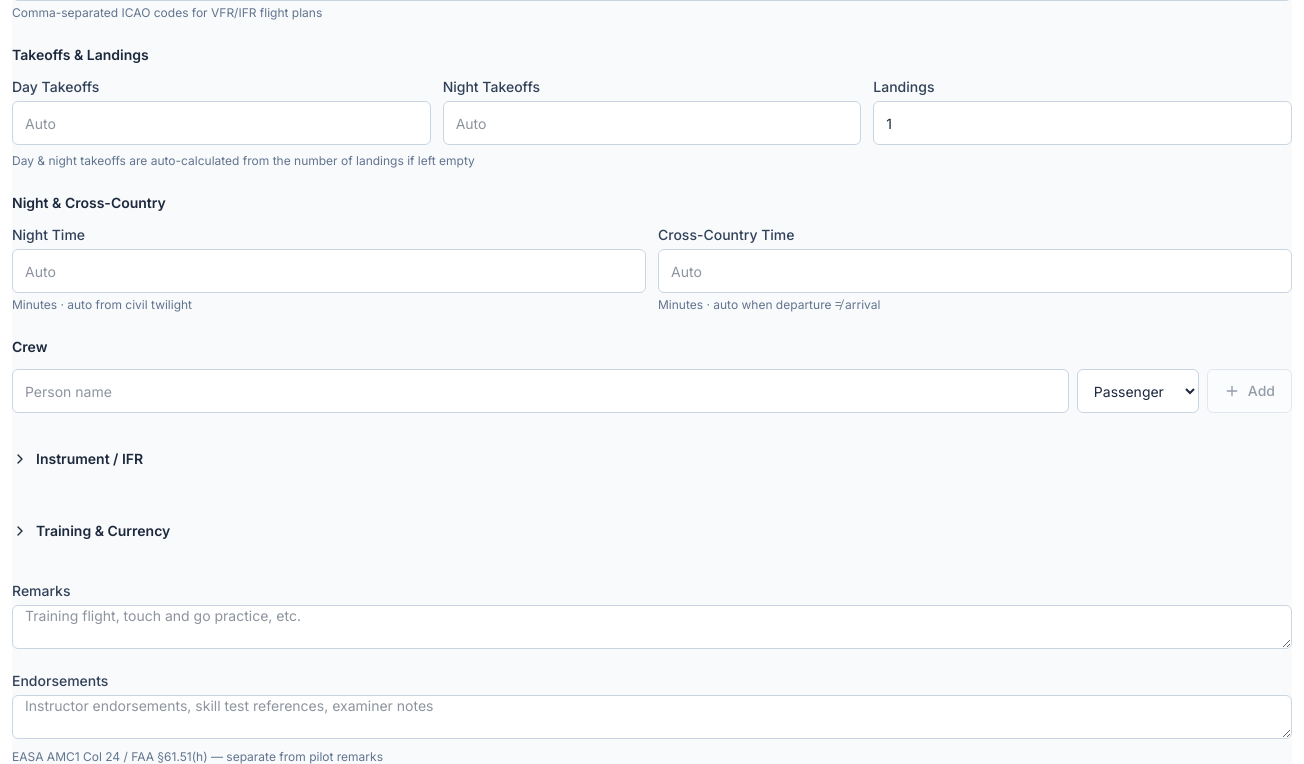
Test: FlightForm Crew Section › adds a crew member
(page scrolled)
Crew section is already expanded — no need to click to reveal it
Type "John Smith" into the dropdown with placeholder "Person name" at {"x": 540, "y": 391}, box top-left (12, 369), bottom-right (1069, 413)
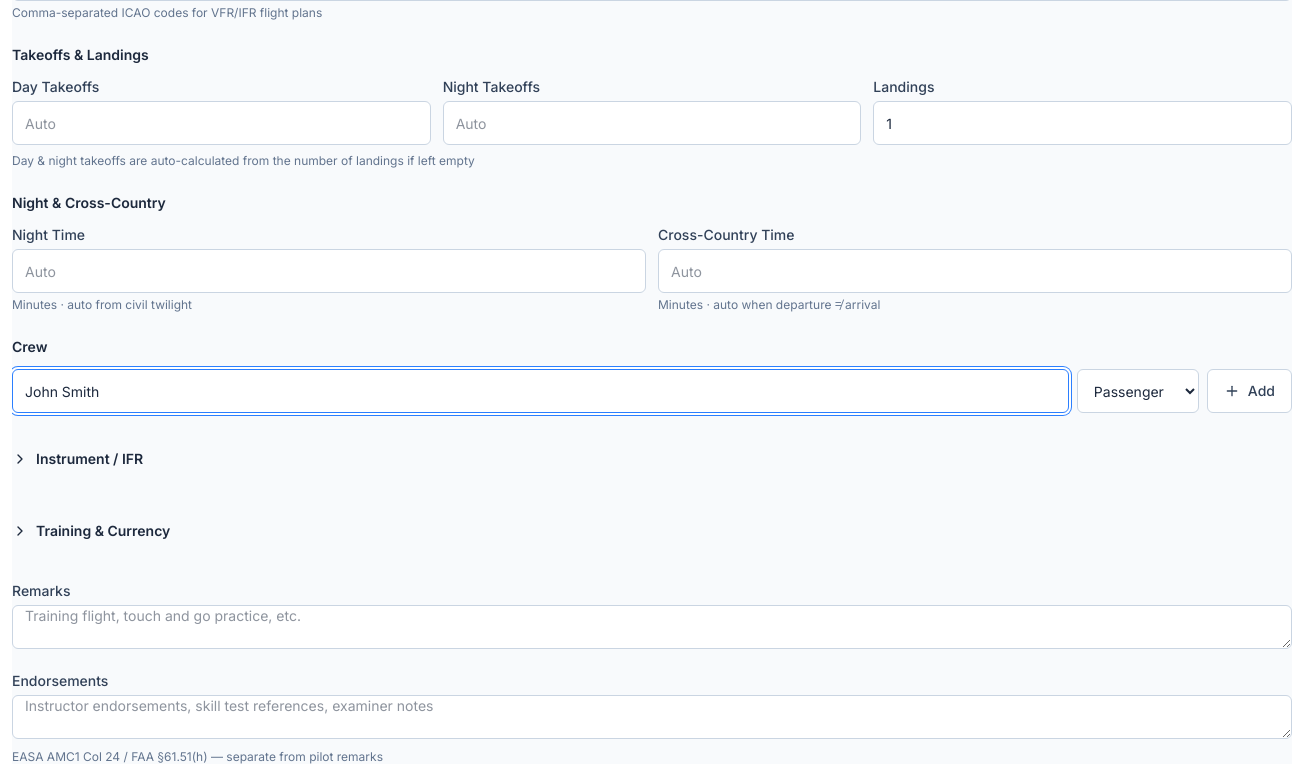
Click the button "Add" at {"x": 1249, "y": 391}, box top-left (1207, 369), bottom-right (1292, 413)
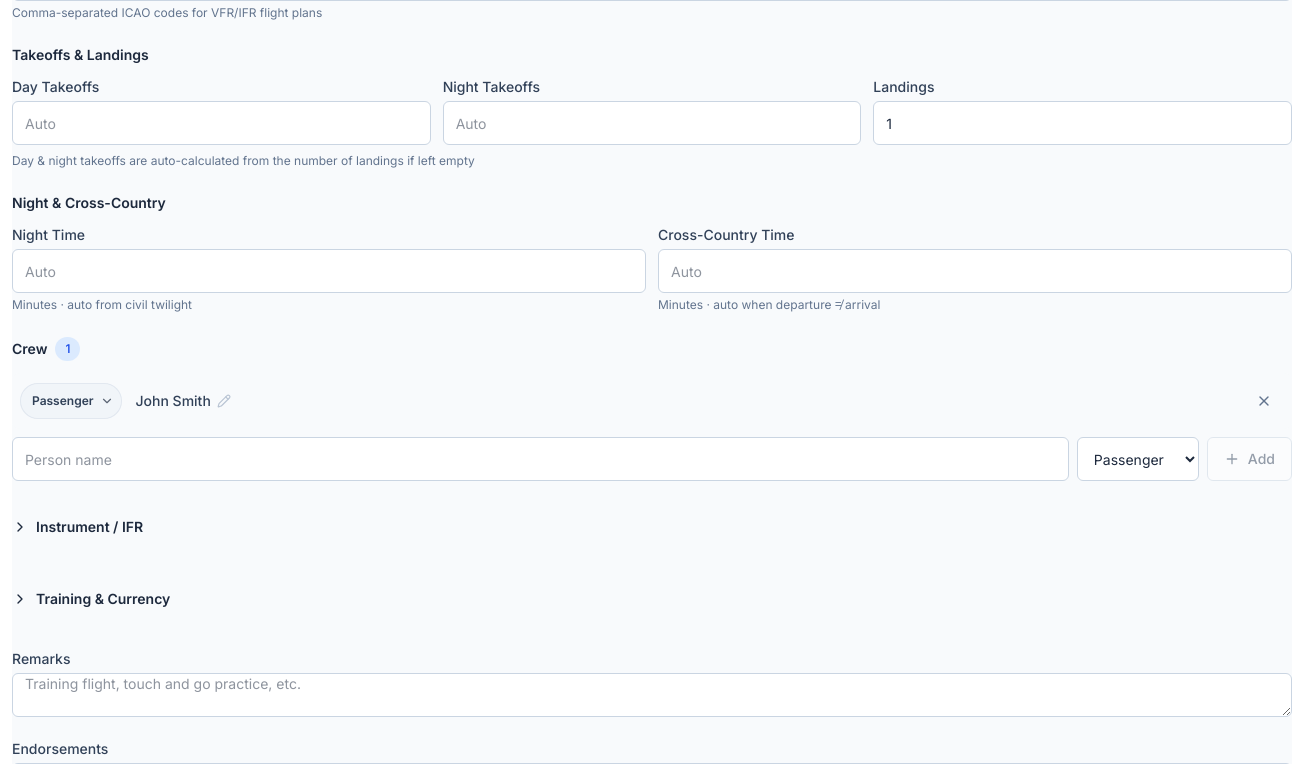
Now the text "John Smith" is shown, box top-left (136, 391), bottom-right (211, 411)
